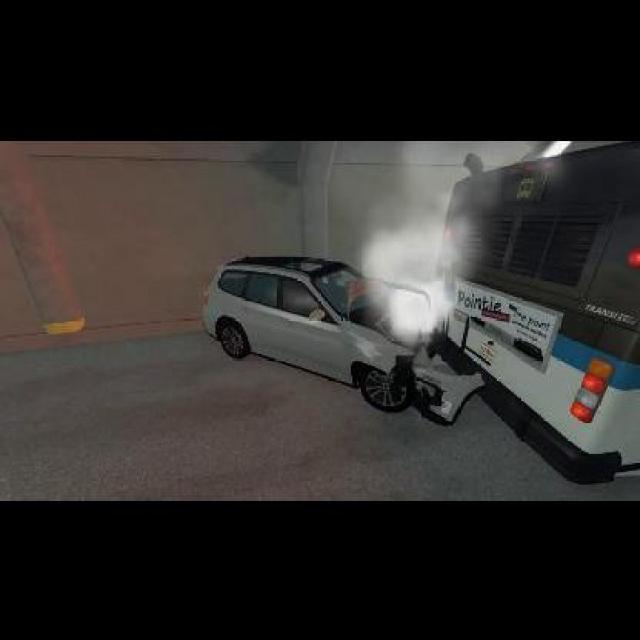accident: (198, 152, 638, 485)
